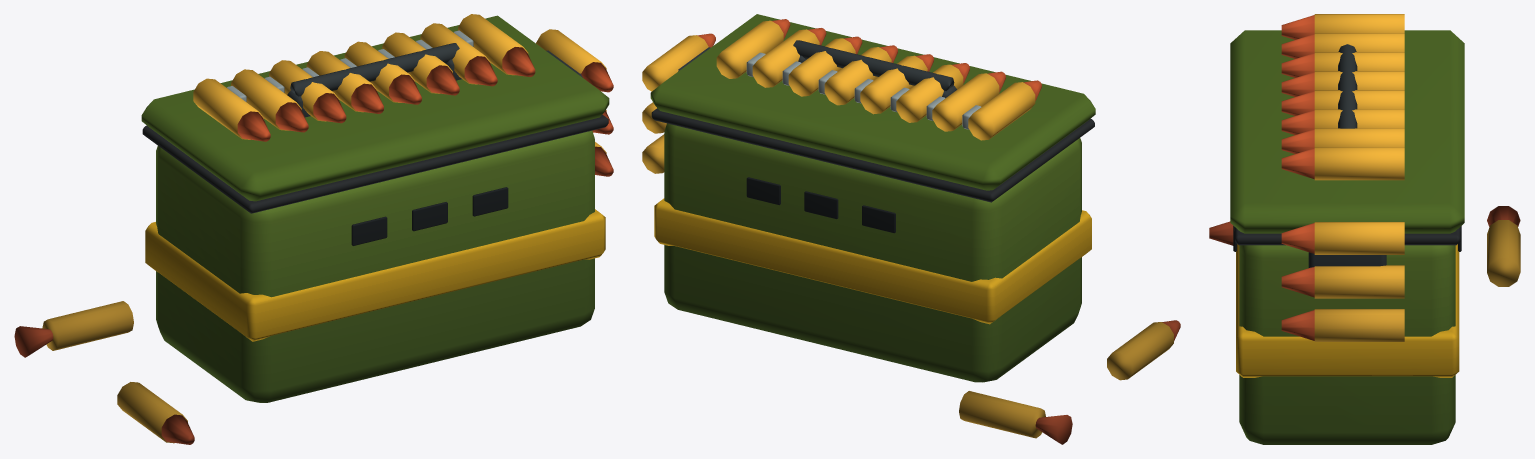
The model's file is ammoBox.glb.
The picture shows the model from 3 angles, left to right: view 1: azimuth 30°, elevation 25°; view 2: azimuth 150°, elevation 25°; view 3: azimuth 270°, elevation 25°; orthographic projection. The views are drawn at different scales.
Parts seen in each view (by area): view 1: Ammo can; view 2: Ammo can; view 3: Ammo can.
Part boxes in pixels (box(x1,y1,x2,y2)): Ammo can: box(14, 14, 613, 444); Ammo can: box(642, 14, 1180, 444); Ammo can: box(1209, 14, 1520, 444).
Bounding box in the file's own units: 0.9766 × 0.534 × 0.518.
Materials: 9 (8 with a texture image).
